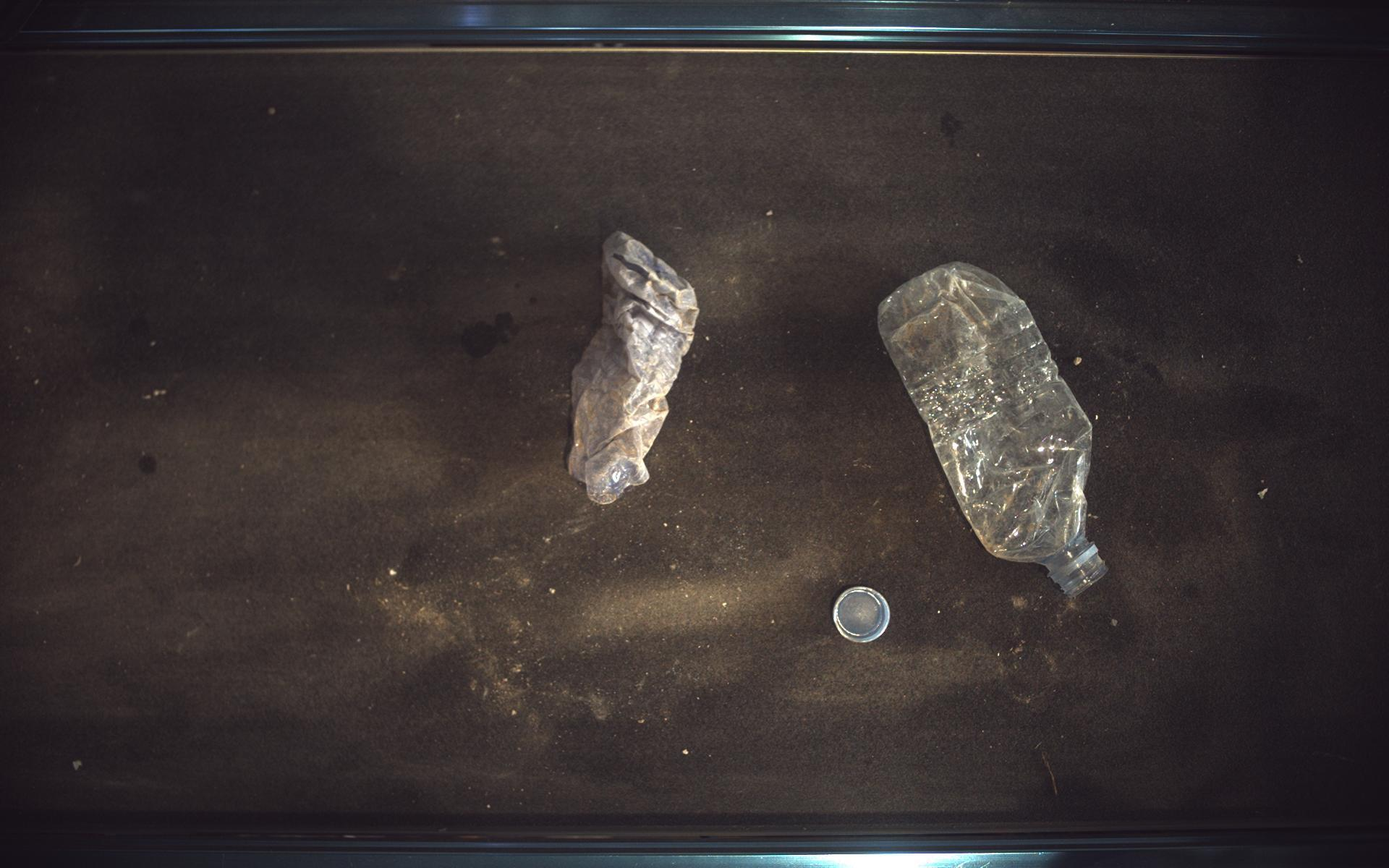general_w: (880, 262, 1109, 597), (569, 231, 700, 505), (834, 587, 892, 644)
